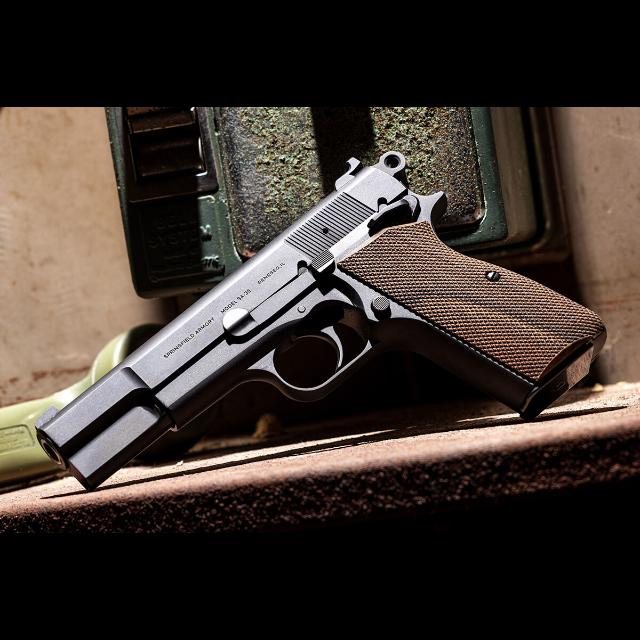handgun: (30, 145, 612, 495)
